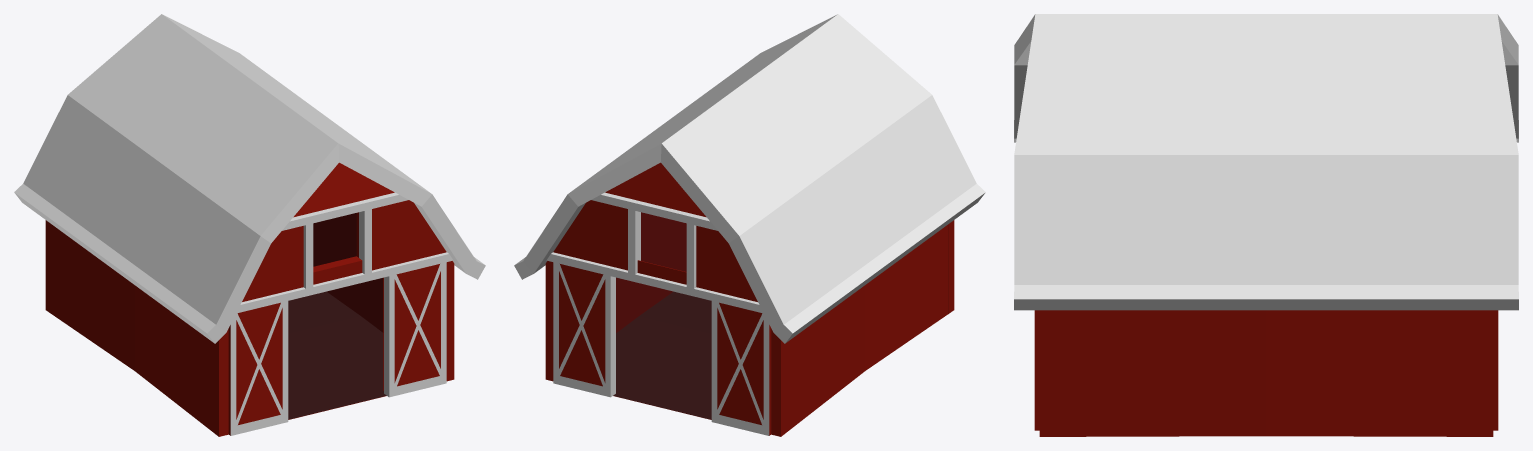
The model's file is Celeiro.fbx.
3 renders of one model, left to right at view 1: azimuth 30°, elevation 25°; view 2: azimuth 150°, elevation 25°; view 3: azimuth 270°, elevation 25°, orthographic. The views are drawn at different scales.
Visible parts, largest first — view 1: Celeiro; view 2: Celeiro; view 3: Celeiro.
Part boxes in pixels (<box>): Celeiro: <box>14,14,485,436</box>; Celeiro: <box>514,14,985,436</box>; Celeiro: <box>1014,14,1518,436</box>.
Size of the model in its own units: 1775 by 1619 by 2129.
